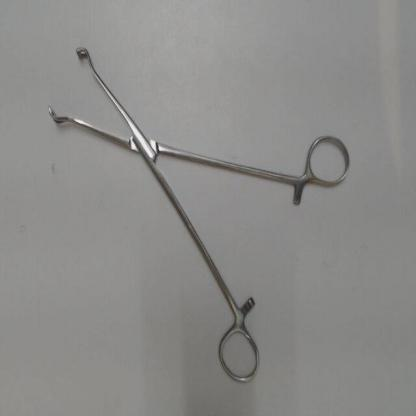8 Babcock Tissue Forceps: (45, 35, 355, 390)
